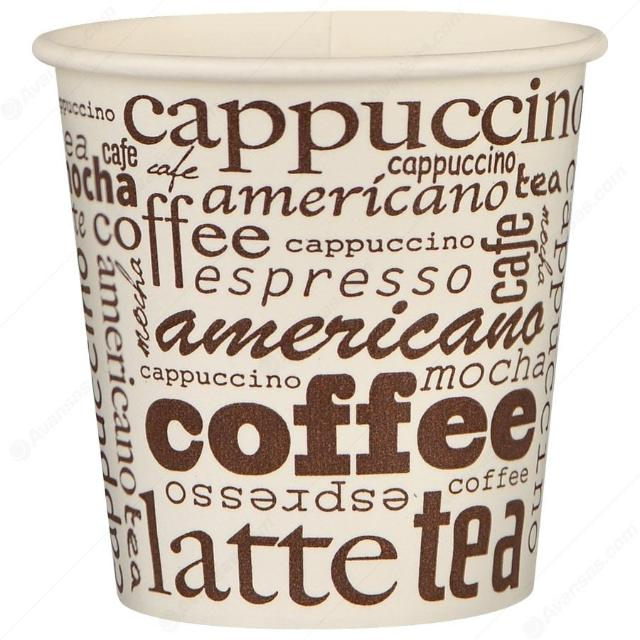trash: (28, 4, 612, 624)
